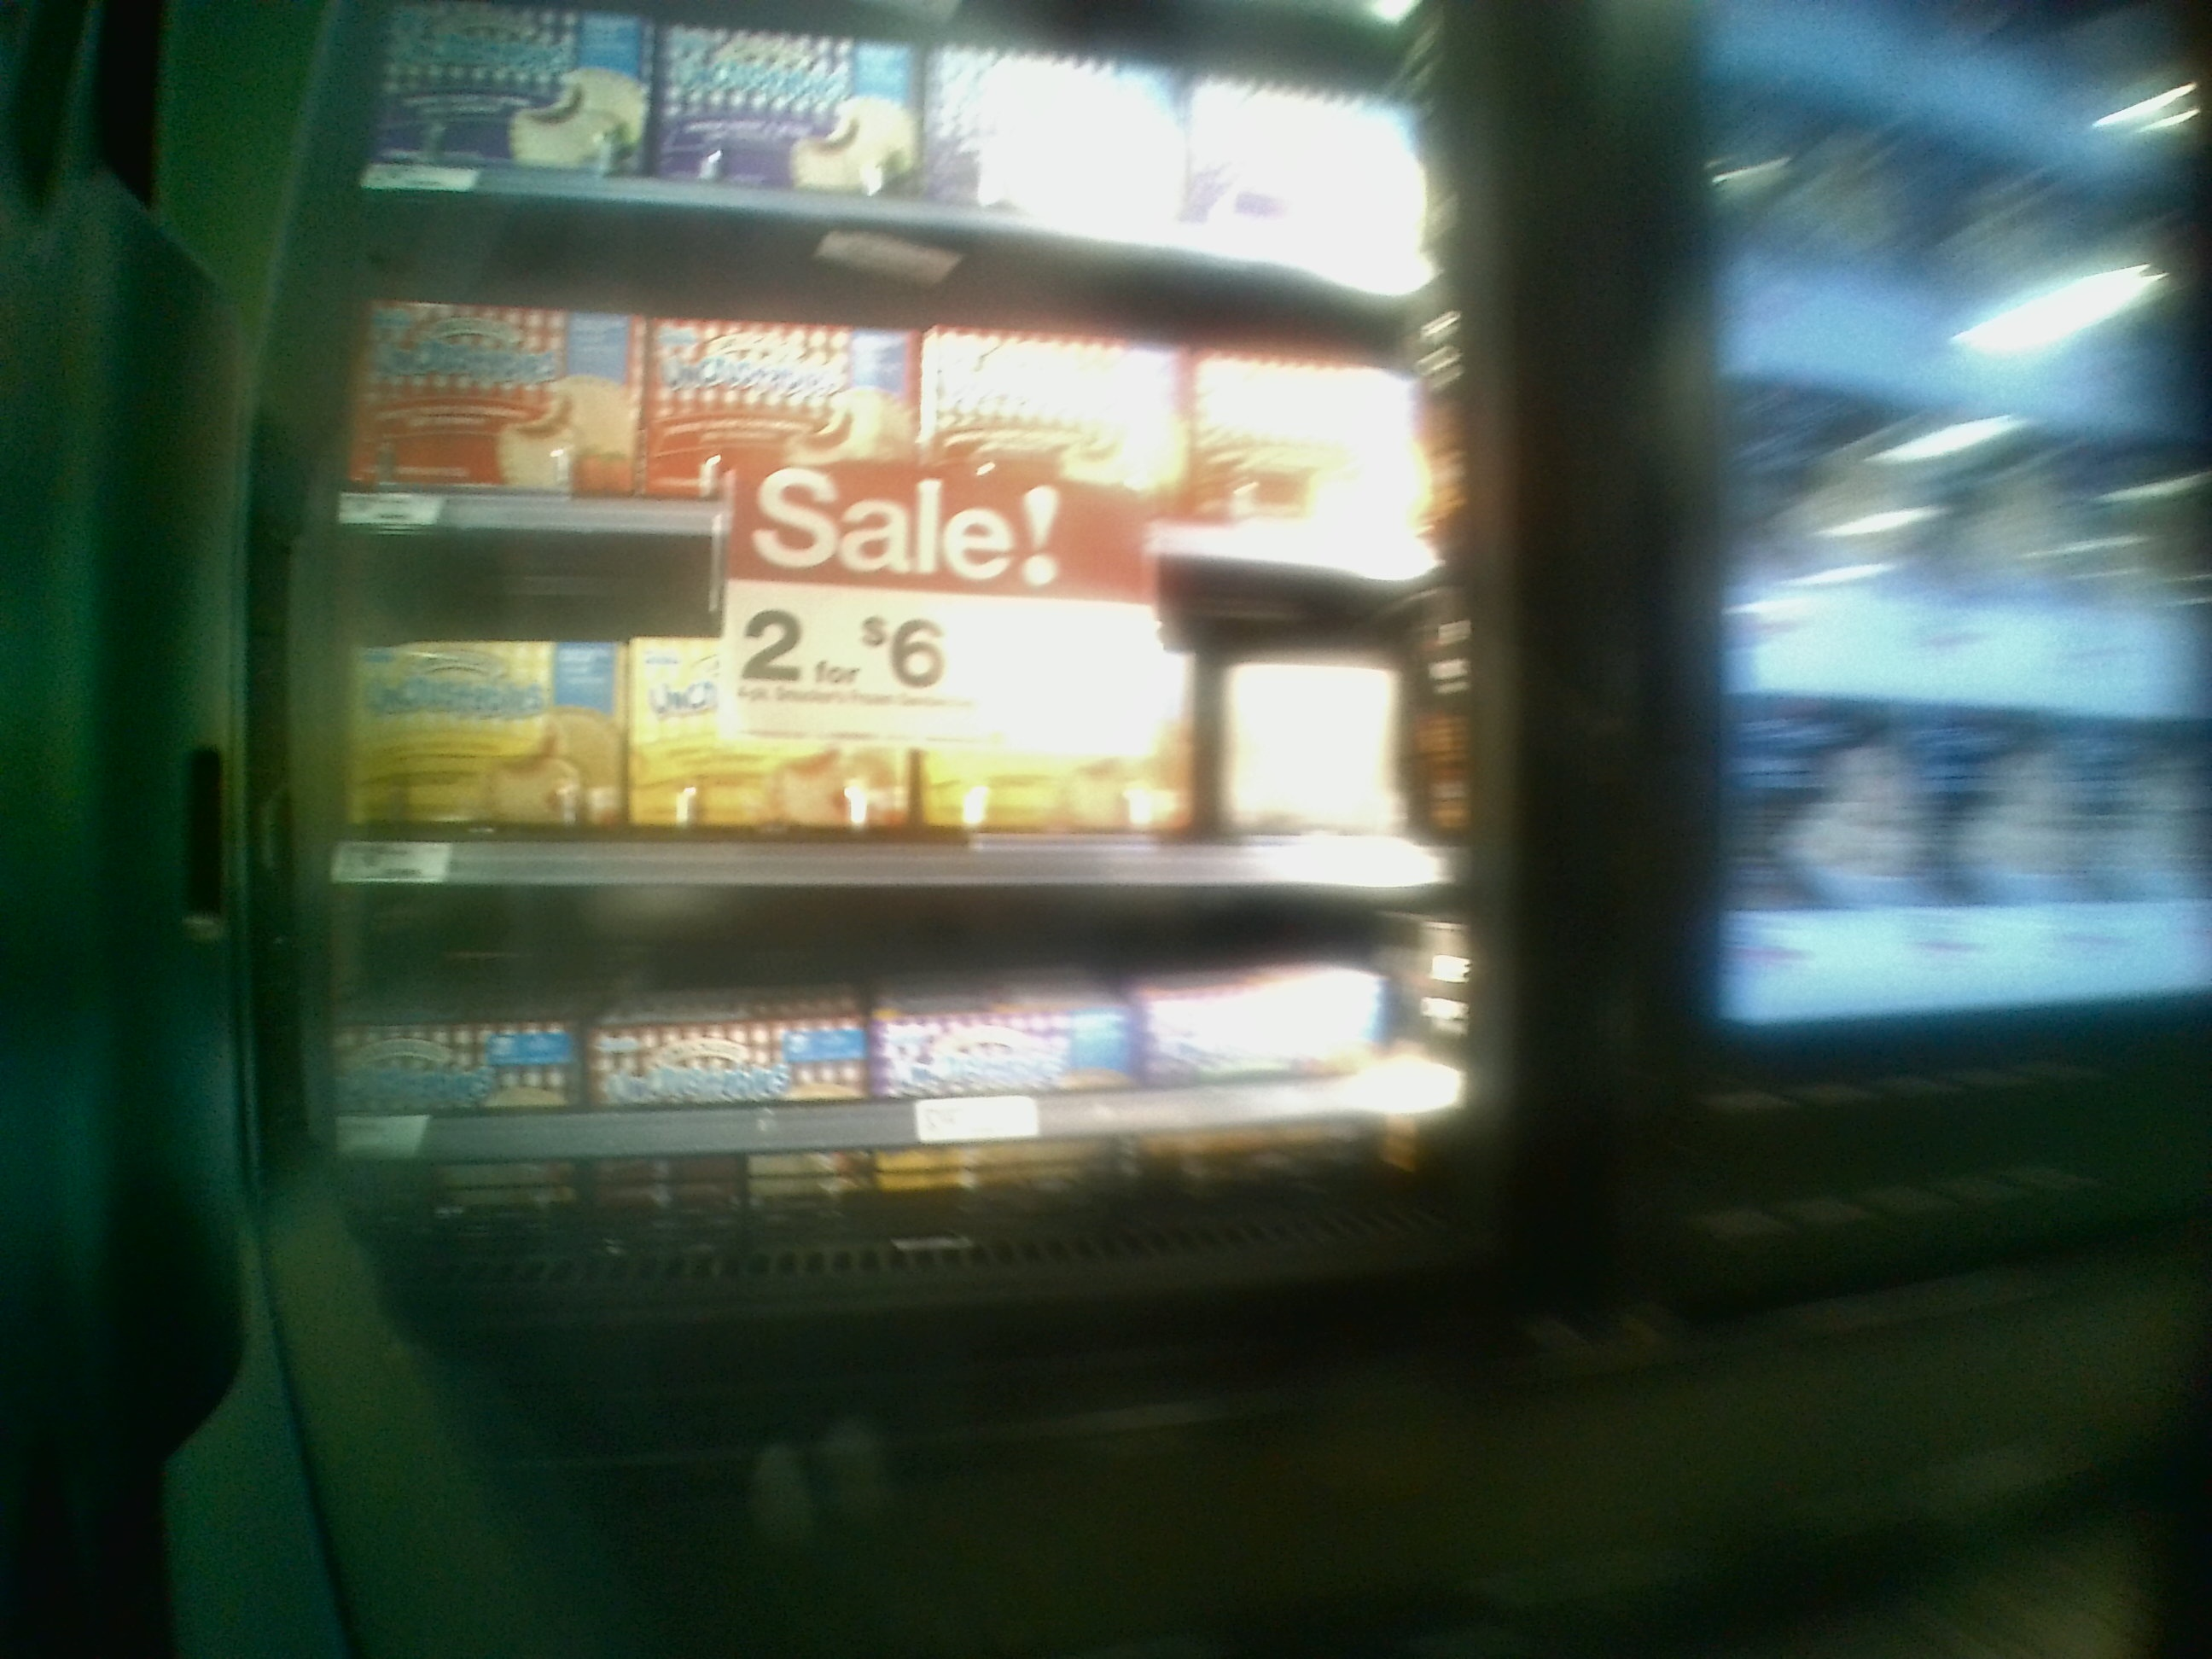shelf: (327, 866, 1512, 1309), (296, 512, 1449, 911), (307, 164, 1423, 551)
